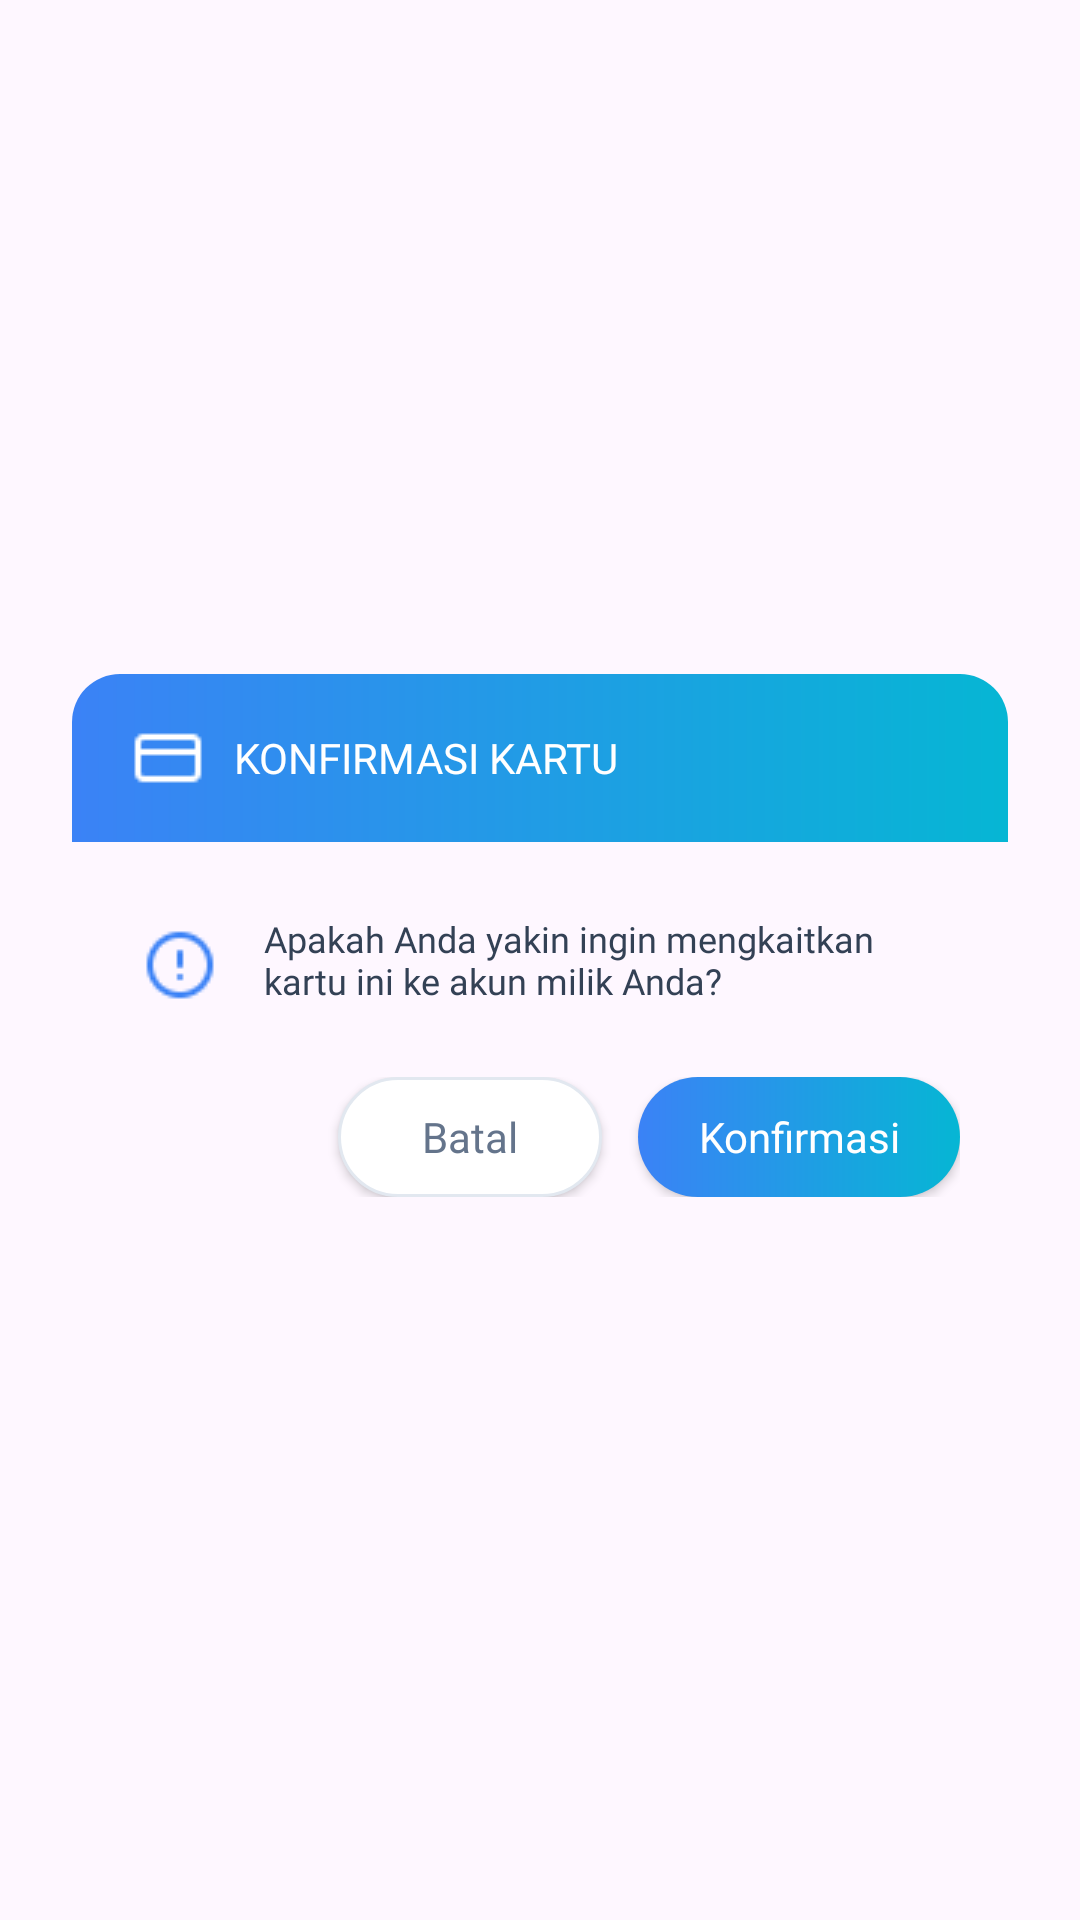

Icons on this 1080 × 1920 Android screen, each with its box as (x1, y1, x2, y2):
alert circle: (146, 931, 214, 999)
Card Icon: (134, 733, 202, 783)
